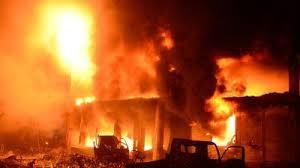fire: (203, 51, 286, 142), (44, 5, 98, 108)
